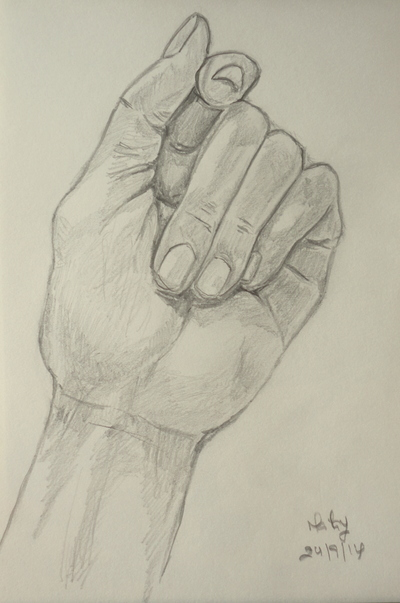closedhandfront: (6, 3, 368, 452)
